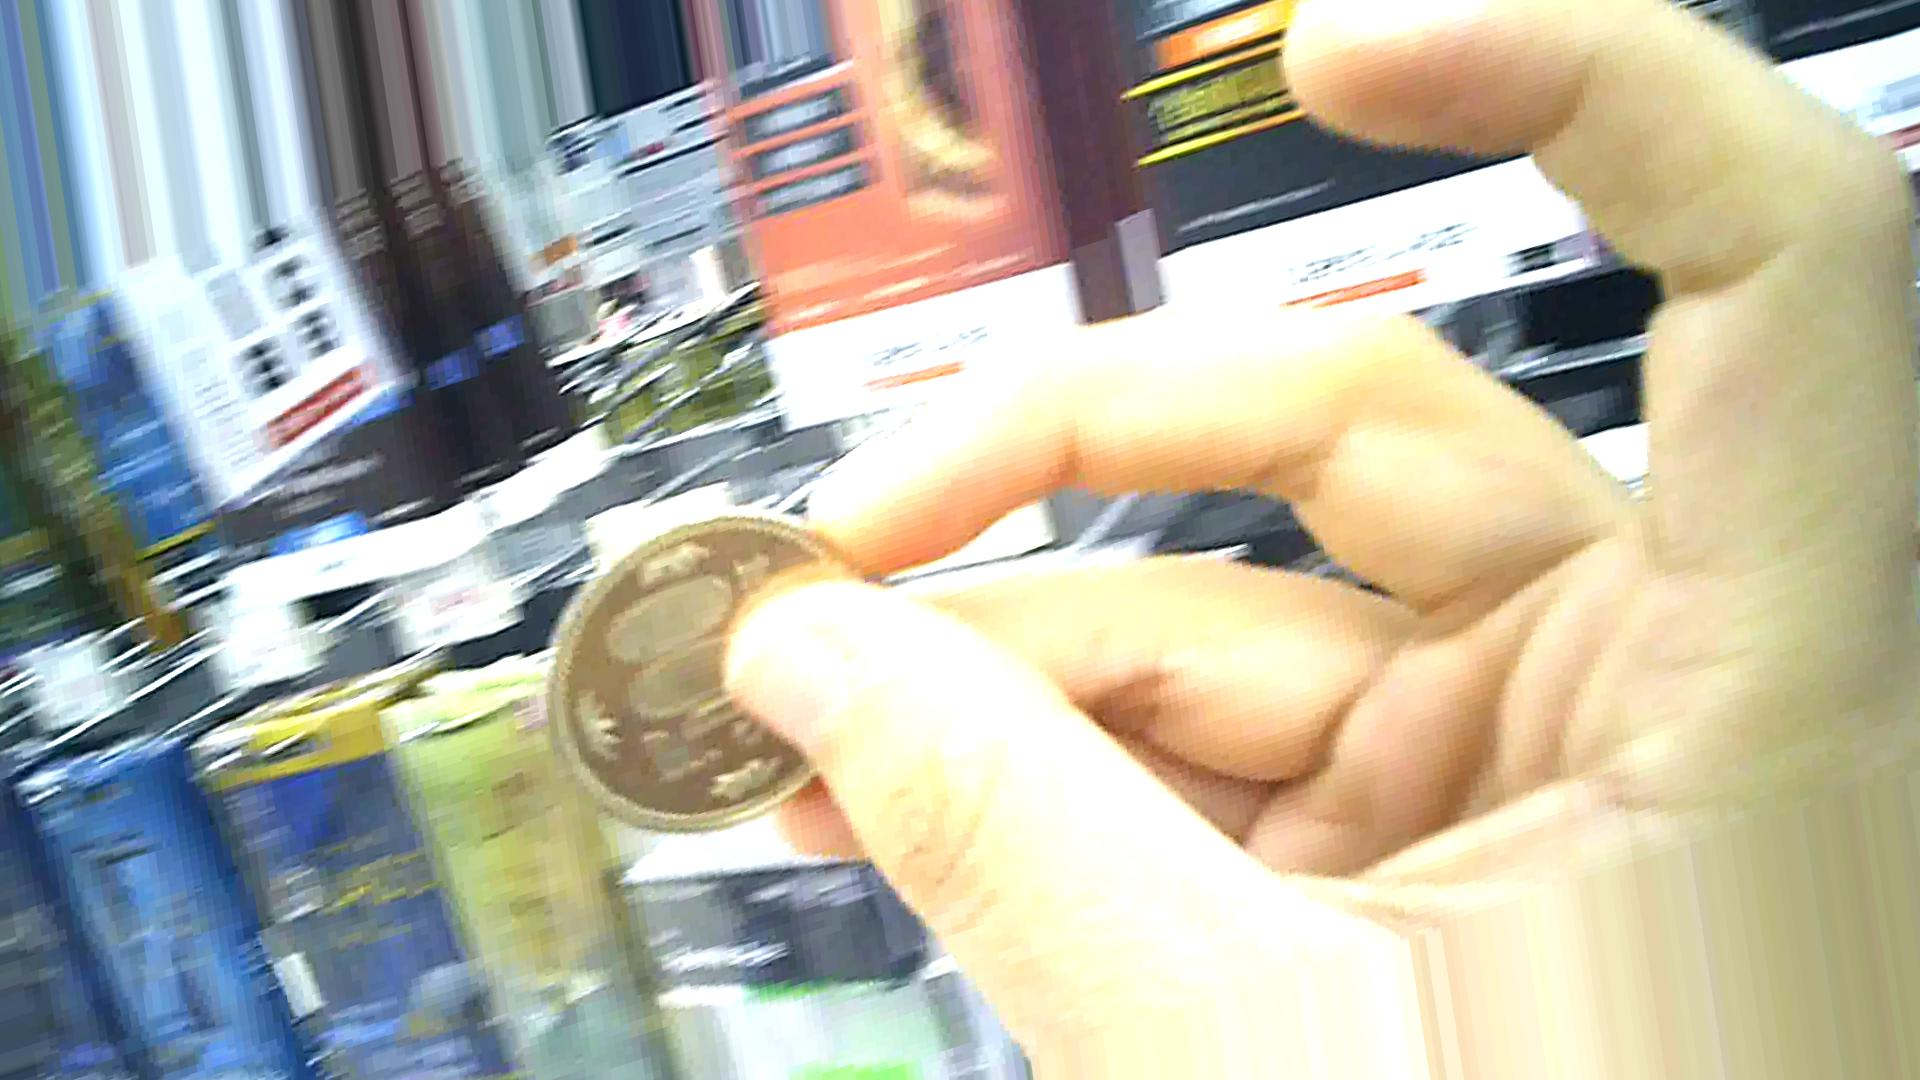500 Yen: (535, 501, 876, 833)
